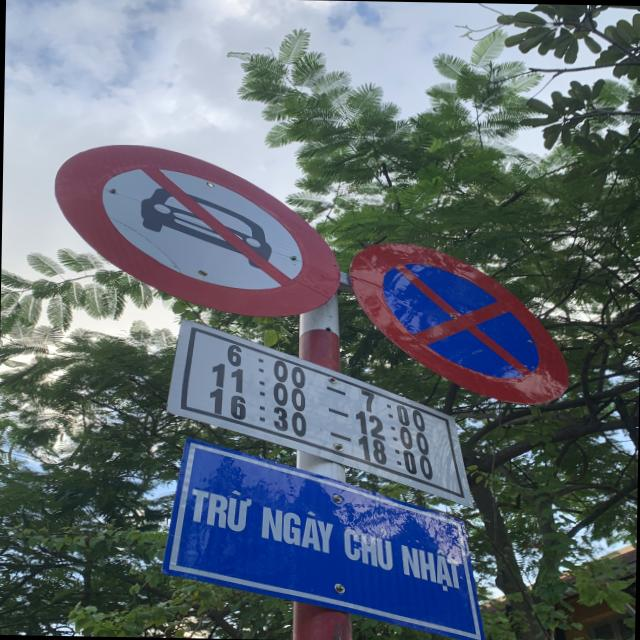Cam_Dung_Va_Dau_Xe: (348, 241, 574, 407)
Cam_O_To: (52, 144, 343, 318)
